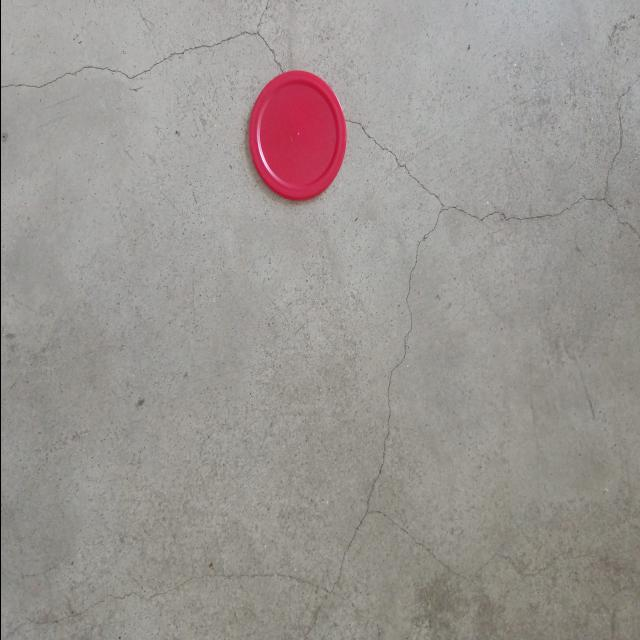chip: (248, 68, 346, 202)
